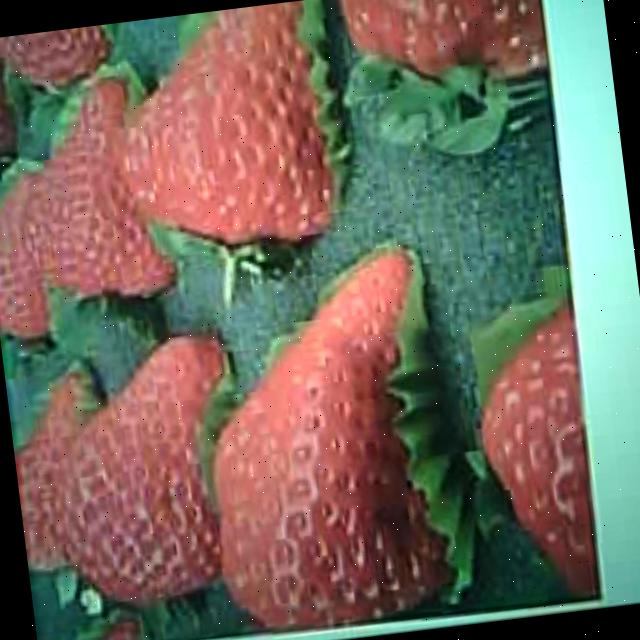strawberry: (184, 247, 467, 640), (107, 0, 347, 260), (42, 332, 249, 616)
